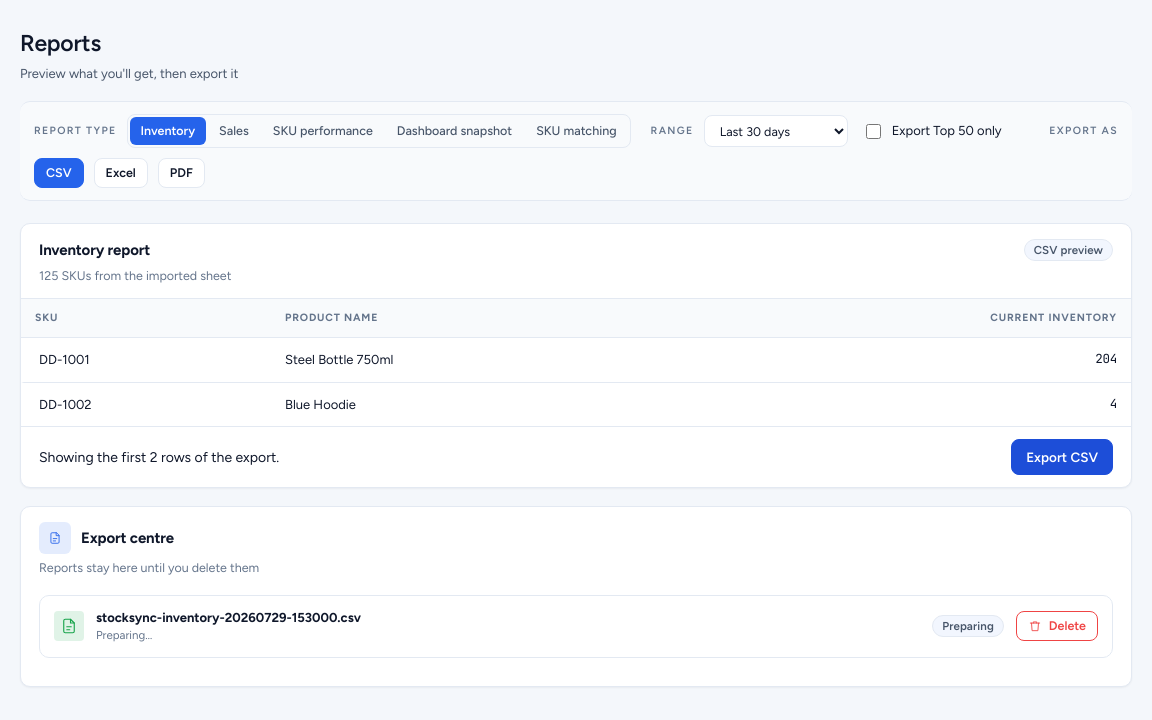
it: completion notification › toasts when polling sees preparing become ready
Expected: the text "DD-1001" is shown, 21,338 -> 271,382
Click the button "Export CSV". click: [1062, 457]
box: 1011,439 -> 1113,475
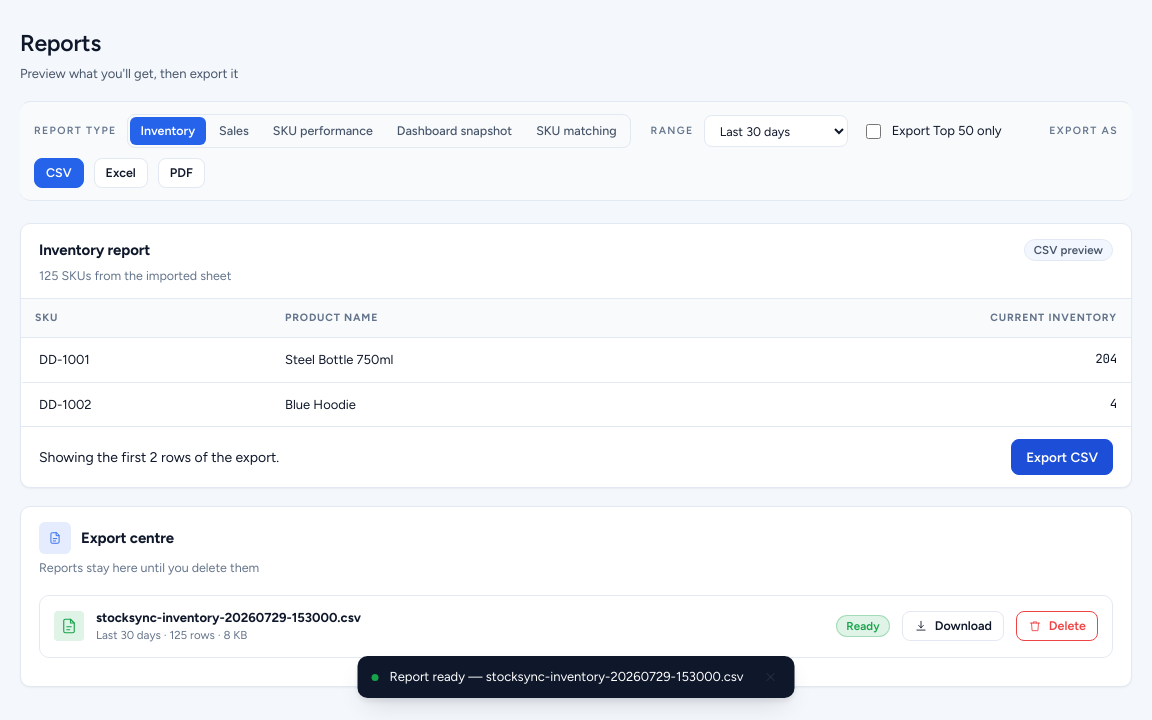
Expected: the text "Report ready — stocksync-inventory-20260729-153000.csv" is shown, 390,667 -> 744,687
